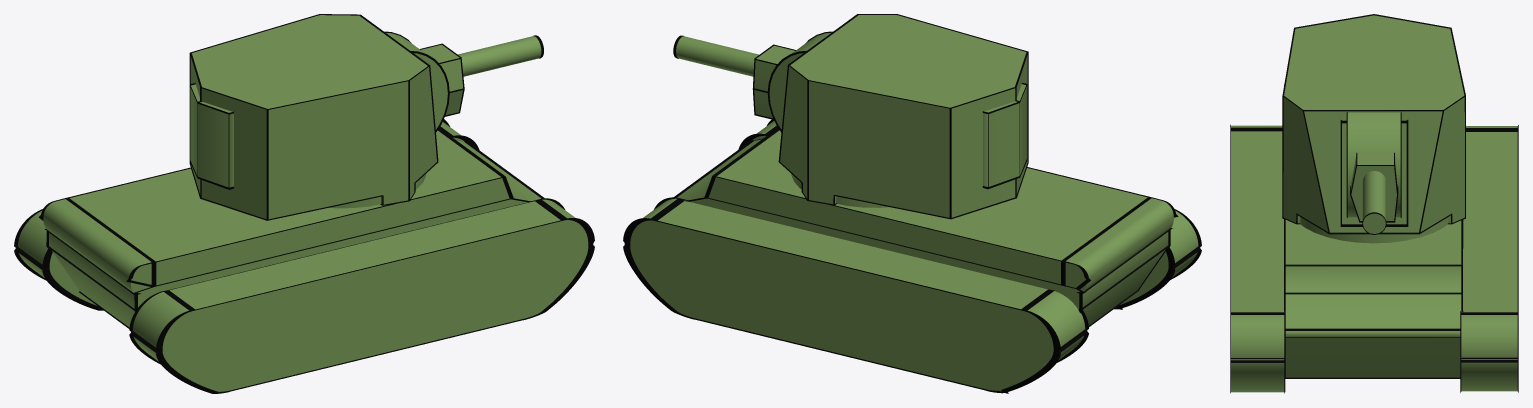
File: tankkv2_visual.glb
3 renders of one model, left to right at view 1: azimuth 30°, elevation 25°; view 2: azimuth 150°, elevation 25°; view 3: azimuth 270°, elevation 25°, orthographic.
Parts seen in each view (by area): view 1: Cubo.006, Cubo.001, Cubo, Cubo.009, Cubo.004, Cubo.007, Cubo.005, Cilindro.001, Cubo.002, Cubo.008, Cilindro; view 2: Cubo.005, Cubo.001, Cubo, Cubo.004, Cubo.008, Cubo.007, Cilindro.001, Cubo.006, Cubo.002, Cubo.009, Cilindro; view 3: Cubo.001, Cubo, Cubo.005, Cubo.006, Cilindro, Cubo.007, Cubo.002, Cubo.003, Cilindro.001, Cubo.008, Cilindro.002, Cubo.009 (+1 smaller).
Boxes of the visible parts, x1=… form: Cubo.006: x1=132, y1=199, x2=588, y2=391; Cubo.001: x1=189, y1=14, x2=438, y2=220; Cubo: x1=43, y1=130, x2=540, y2=327; Cubo.009: x1=129, y1=198, x2=594, y2=393; Cubo.004: x1=189, y1=83, x2=234, y2=189; Cubo.007: x1=38, y1=128, x2=544, y2=328; Cubo.005: x1=18, y1=122, x2=464, y2=305; Cilindro.001: x1=458, y1=36, x2=541, y2=76; Cubo.002: x1=420, y1=43, x2=464, y2=116; Cubo.008: x1=14, y1=119, x2=479, y2=310; Cilindro: x1=386, y1=33, x2=447, y2=129; Cubo.005: x1=630, y1=198, x2=1085, y2=391; Cubo.001: x1=778, y1=14, x2=1028, y2=219; Cubo: x1=677, y1=130, x2=1173, y2=325; Cubo.004: x1=982, y1=83, x2=1027, y2=189; Cubo.008: x1=623, y1=197, x2=1088, y2=393; Cubo.007: x1=674, y1=128, x2=1178, y2=326; Cilindro.001: x1=676, y1=36, x2=758, y2=76; Cubo.006: x1=752, y1=121, x2=1198, y2=304; Cubo.002: x1=752, y1=44, x2=795, y2=119; Cubo.009: x1=738, y1=119, x2=1201, y2=309; Cilindro: x1=769, y1=32, x2=831, y2=129; Cubo.001: x1=1282, y1=14, x2=1465, y2=234; Cubo: x1=1285, y1=220, x2=1461, y2=377; Cubo.005: x1=1461, y1=126, x2=1517, y2=391; Cubo.006: x1=1231, y1=125, x2=1284, y2=392; Cilindro: x1=1347, y1=112, x2=1400, y2=217; Cubo.007: x1=1284, y1=85, x2=1463, y2=378; Cubo.002: x1=1350, y1=152, x2=1398, y2=222; Cubo.003: x1=1340, y1=120, x2=1408, y2=226; Cilindro.001: x1=1362, y1=171, x2=1386, y2=233; Cubo.008: x1=1460, y1=125, x2=1518, y2=392; Cilindro.002: x1=1300, y1=217, x2=1447, y2=243; Cubo.009: x1=1230, y1=124, x2=1285, y2=393.
Size of the model in its own units: 9.1 by 4.63 by 4.9.
